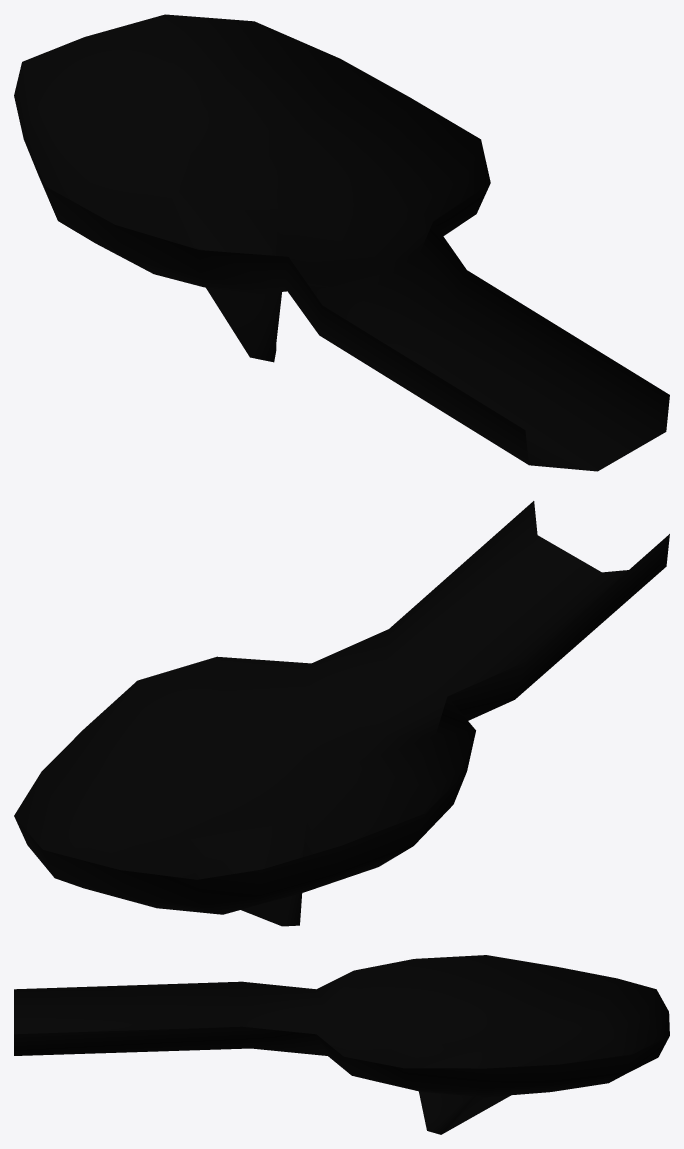
The model's file is Ebaka.fbx.
The picture shows the model from 3 angles, top to bottom: view 1: azimuth 30°, elevation 25°; view 2: azimuth 150°, elevation 25°; view 3: azimuth 270°, elevation 25°; orthographic projection. The views are drawn at different scales.
Visible parts, largest first — view 1: Cube; view 2: Cube; view 3: Cube.
Boxes of the visible parts, x1,y1,x2,y2 form: Cube: (14, 14, 669, 471); Cube: (14, 501, 669, 926); Cube: (14, 955, 669, 1134).
Size of the model in its own units: 0.2424 by 0.1187 by 0.5813.
